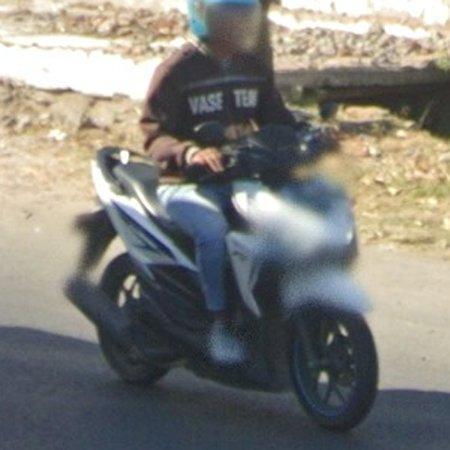motorcycles: (65, 122, 379, 431)
